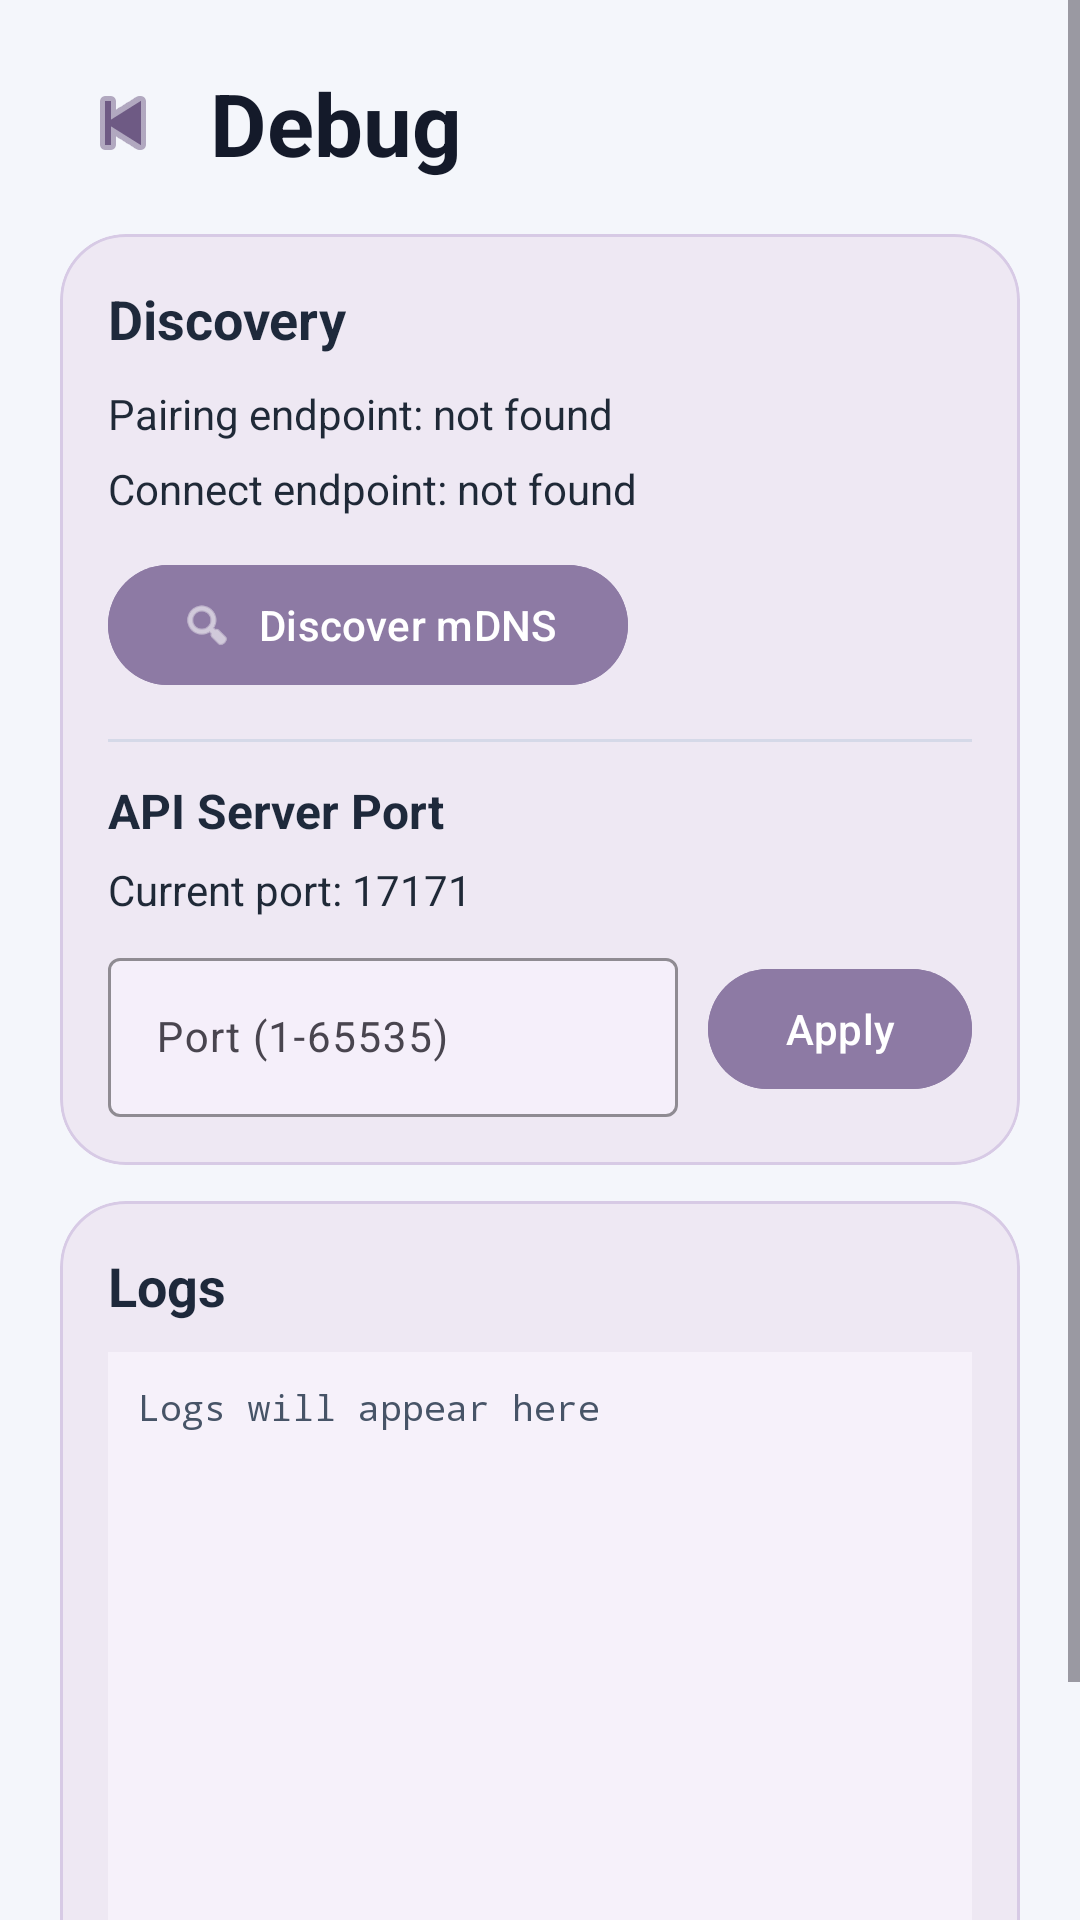

Icons on this 1080*1920 Android screen, each with the point to tap as point (x, y):
Back: point (123, 123)
